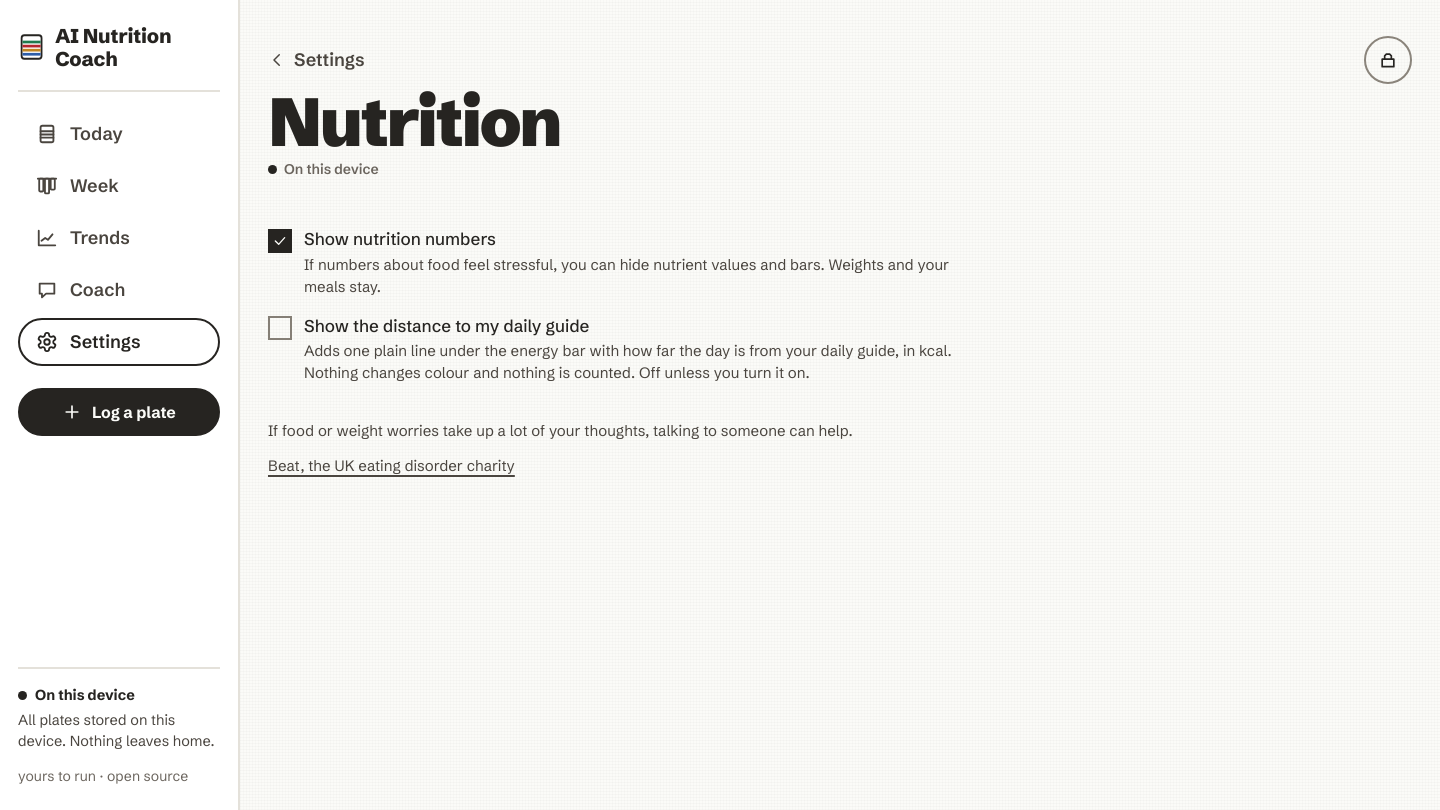
Test case: NutritionScreen › says so, and stays where it was, when the choice cannot be kept
Click the switch labelled "Show nutrition numbers" at x=624, y=263, box x1=268 y1=220 x2=980 y2=306
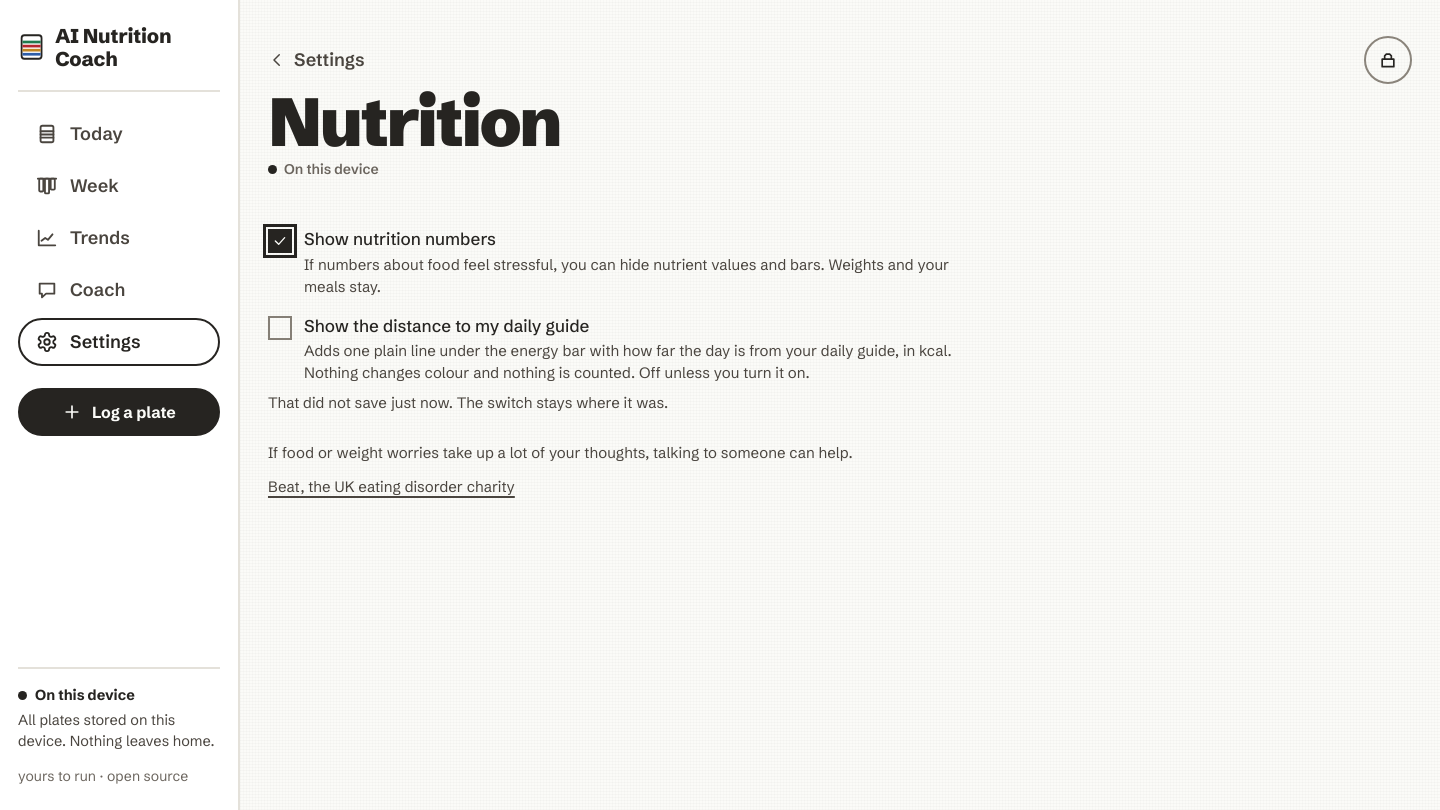
Expected: the text "That did not save just now. The switch stays where it was." is shown, x1=268 y1=393 x2=668 y2=412
